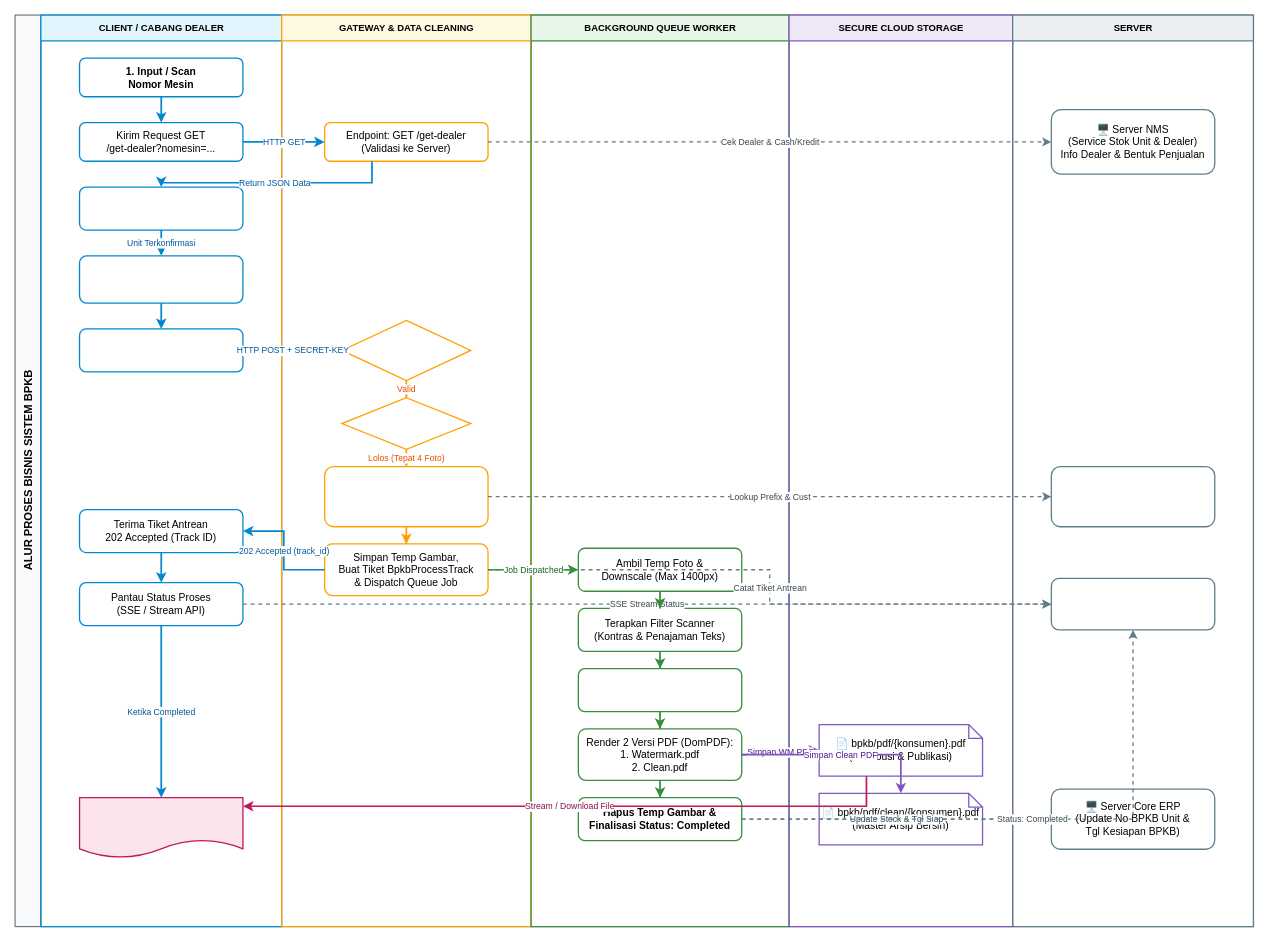
The diagram is 1269 pixels wide and 943 high, and some of its shapes have lost their labels. Here are the shapes that lost their labels. From the top down, the centre of each, then its label:
At point (161, 208): "Tampilkan Info Dealer & Bentuk Penjualan (Cash/Kredit)".
At point (161, 279): "2. Verifikasi OK: Input No BPKB & Upload 4 Foto Fisik BPKB".
At point (161, 350): "3. Kirim Request POST /api/bpkb/process".
At point (406, 350): "Validasi SECRET-KEY?".
At point (406, 423): "Validasi Input & 4 Gambar?".
At point (406, 496): "Pembersihan Data: 1. Prefix Levenshtein 2. Serial Typo OCR 3. Format No BPKB".
At point (1132, 496): "🖥️ Server NMS (Master Tipe Kendaraan & Data Konsumen)".
At point (1132, 603): "🖥️ Server Aplikasi BPKB (Service Tracking & Tiket Antrean)".
At point (659, 690): "Terapkan Watermark Diagonal 'Menara Agung'".
At point (161, 827): "Unduh / Cetak Dokumen PDF BPKB (Resmi / Bersih)".
